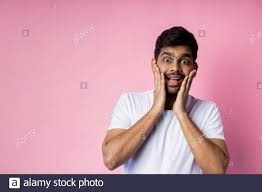Indian_Male: (159, 42, 196, 103)
